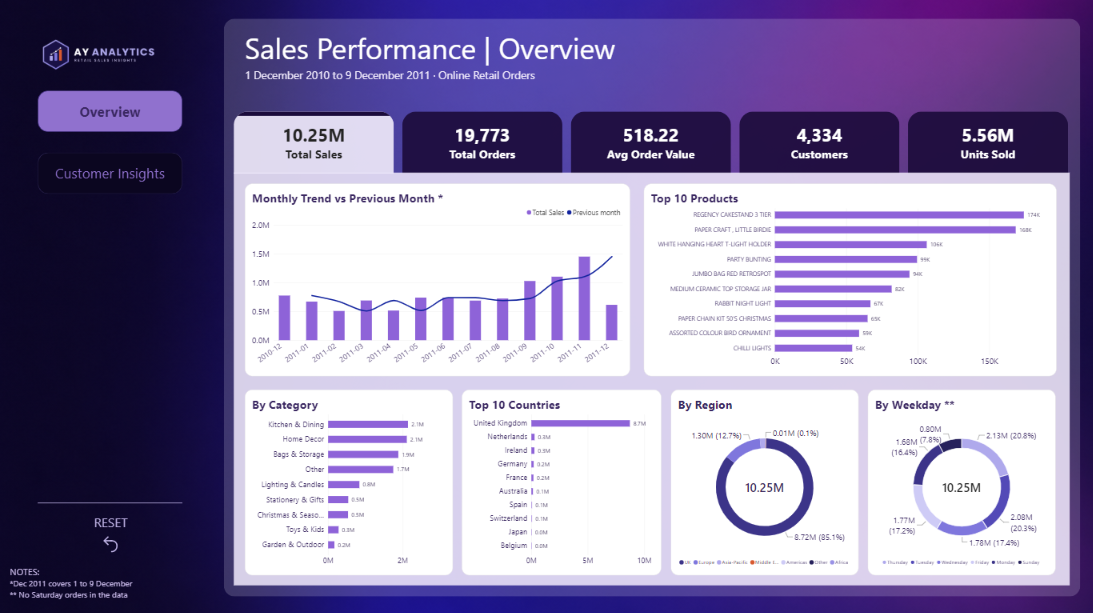

The page's visual inventory and layout, read from the dashboard file:
{"tool":"powerbi","page":{"name":"Overview","canvas":[2560,1440],"ordinal":0},"visuals":[{"type":"shape","title":"svsvsv","box":[528,48,1992,1344],"z":0},{"type":"advancedSlicerVisual","fields":{"Label":["DimDate.Button Value"],"Values":["Metric.Metric"]},"box":[552,264,1944,144],"z":1000},{"type":"shape","box":[552,408,1944,960],"z":2000},{"type":"lineClusteredColumnComboChart","title":"Monthly Trend vs Previous Month *","fields":{"Category":["DimDate.YearMonth"],"Y":["_Measures.Total Sales"],"Y2":["_Measures.Selected Metric Prev Month"]},"box":[576,432,896,448],"z":3000},{"type":"textbox","title":"Sales Performance | Overview","box":[576,72,1104,144],"z":4000},{"type":"barChart","title":"By Category","fields":{"Category":["sales_clean.Category"],"Y":["_Measures.Total Sales"]},"box":[576,912,484,432],"z":5000},{"type":"barChart","title":"Top 10 Countries","fields":{"Category":["sales_clean.Country"],"Y":["_Measures.Total Sales"]},"box":[1081.7,911.7,464,432],"z":6000},{"type":"clusteredBarChart","title":"Top 10 Products","fields":{"Category":["sales_clean.Description"],"Y":["_Measures.Total Sales"]},"box":[1504,432,960,448],"z":7000},{"type":"donutChart","title":"By Region","fields":{"Category":["sales_clean.Region"],"Y":["_Measures.Total Sales"]},"box":[1568.3,911.7,437,432],"z":8000},{"type":"donutChart","title":"By Weekday **","fields":{"Category":["sales_clean.Weekday"],"Y":["_Measures.Total Sales"]},"box":[2026.7,911.7,437,432],"z":9000},{"type":"pageNavigator","box":[96,216,336,96],"z":10000},{"type":"pageNavigator","box":[96,360,336,96],"z":11000},{"type":"actionButton","box":[120,1224,288,96],"z":12000},{"type":"textbox","title":"RESET","box":[120,1200,288,48],"z":13000},{"type":"shape","box":[96,1152,336,48],"z":14000},{"type":"image","box":[95.7,49.1,336.2,167],"z":15000},{"type":"textbox","title":"* Dec 2011 covers 1 to 9 December","box":[30,1320,300,92.5],"z":16000}]}

Visuals, with their boxes in screenshot pixels (x1, y1, x2, y2), scaled from the page's 2560x1440 canvas onto the 1093x613 screenshot:
"svsvsv" shape: (x1=225, y1=20, x2=1076, y2=593)
advancedSlicerVisual - DimDate.Button Value x Metric.Metric: (x1=236, y1=112, x2=1066, y2=174)
shape: (x1=236, y1=174, x2=1066, y2=582)
"Monthly Trend vs Previous Month *" lineClusteredColumnComboChart: (x1=246, y1=184, x2=628, y2=375)
"Sales Performance | Overview" textbox: (x1=246, y1=31, x2=717, y2=92)
"By Category" barChart: (x1=246, y1=388, x2=453, y2=572)
"Top 10 Countries" barChart: (x1=462, y1=388, x2=660, y2=572)
"Top 10 Products" clusteredBarChart: (x1=642, y1=184, x2=1052, y2=375)
"By Region" donutChart: (x1=670, y1=388, x2=856, y2=572)
"By Weekday **" donutChart: (x1=865, y1=388, x2=1052, y2=572)
pageNavigator: (x1=41, y1=92, x2=184, y2=133)
pageNavigator: (x1=41, y1=153, x2=184, y2=194)
actionButton: (x1=51, y1=521, x2=174, y2=562)
"RESET" textbox: (x1=51, y1=511, x2=174, y2=531)
shape: (x1=41, y1=490, x2=184, y2=511)
image: (x1=41, y1=21, x2=184, y2=92)
"* Dec 2011 covers 1 to 9 December" textbox: (x1=13, y1=562, x2=141, y2=601)
